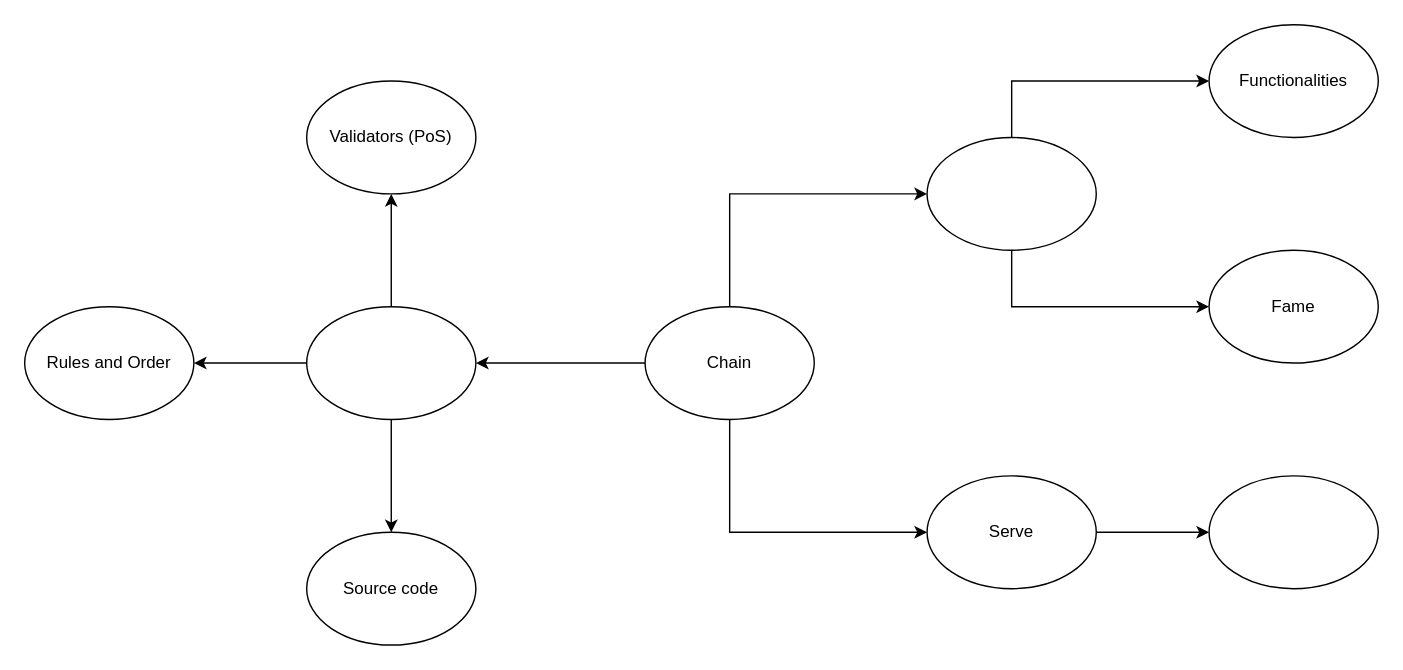
The diagram is 1403 pixels wide and 670 high, and some of its shapes have lost their labels. The shapes that lost their labels are listed below. From the top down, each one's centre as x and y in pixels, then its label:
At (x=1011, y=193): "Grow".
At (x=390, y=362): "Maintain".
At (x=1293, y=531): "User's need".
